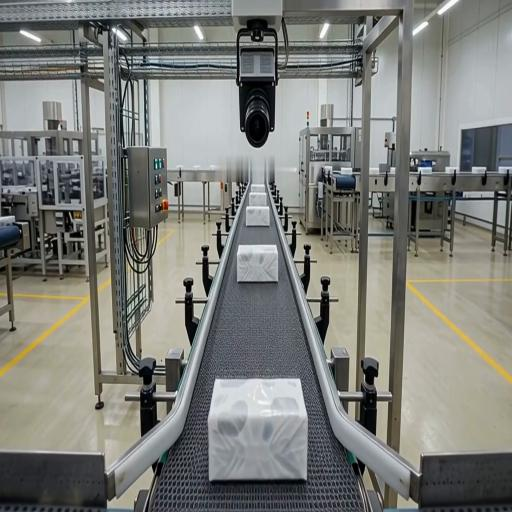good: (208, 377, 308, 482), (236, 244, 280, 282), (245, 205, 271, 227), (247, 192, 268, 207), (250, 184, 265, 192), (498, 166, 512, 174), (340, 167, 353, 174)
